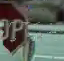Stop: (0, 0, 31, 60)
